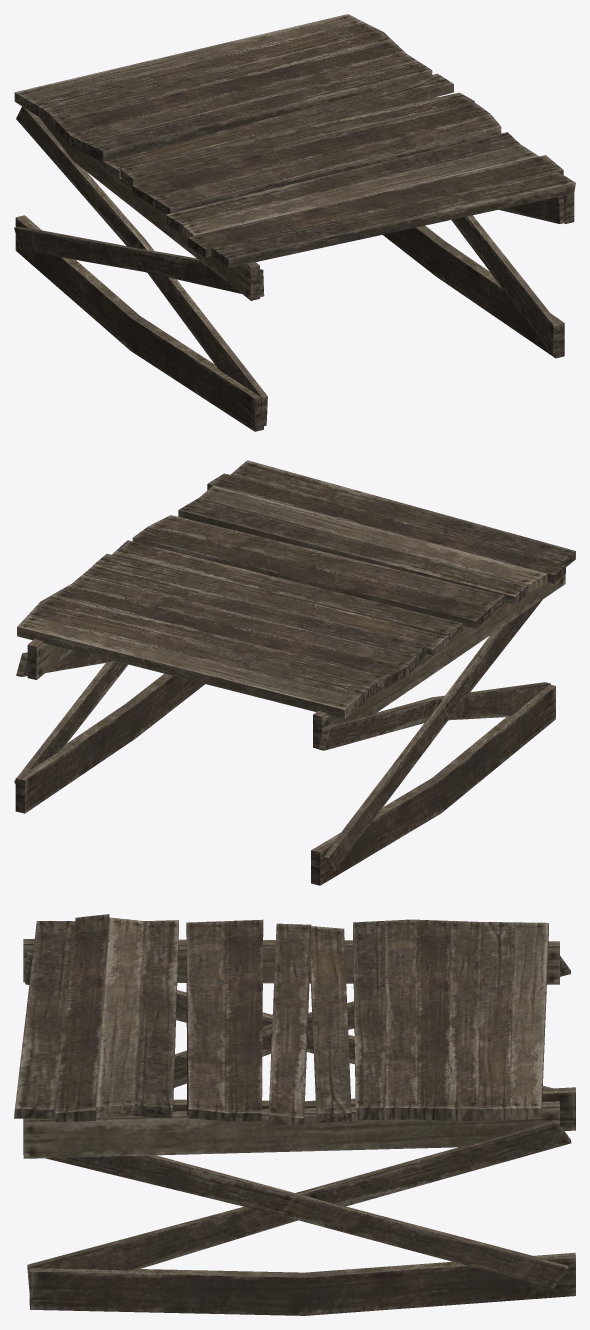
File: eso_gu3_wooddocks4-transformed.glb
3 views of the same model, one above another, from view 1: azimuth 30°, elevation 25°; view 2: azimuth 150°, elevation 25°; view 3: azimuth 270°, elevation 25° (orthographic). The views are drawn at different scales.
Parts seen in each view (by area): view 1: default; view 2: default; view 3: default.
Boxes of the visible parts, box(x1,y1,x2,y2) form: default: box(14, 14, 575, 431); default: box(14, 460, 575, 885); default: box(14, 914, 575, 1315).
Size of the model in its own units: 7.62 by 3.79 by 9.05.
1 material, 1 textured.
